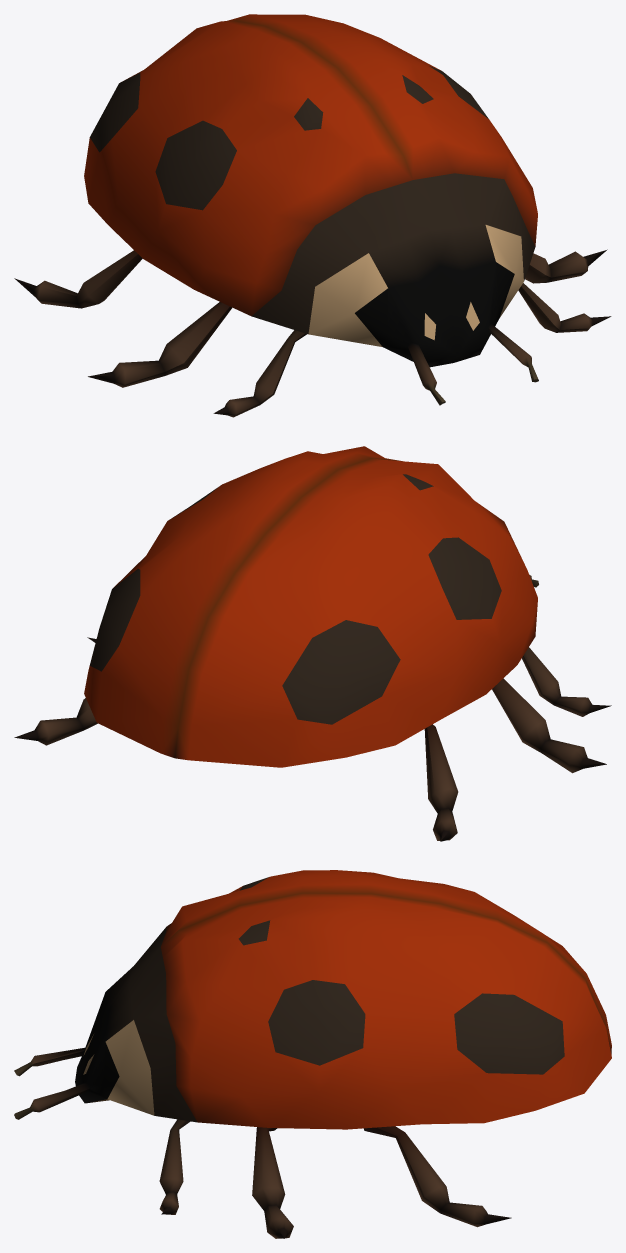
The model's file is animals-insects-ladybug_v2.glb.
3 renders of one model, top to bottom at view 1: azimuth 30°, elevation 25°; view 2: azimuth 150°, elevation 25°; view 3: azimuth 270°, elevation 25°, orthographic. The views are drawn at different scales.
Visible parts, largest first — view 1: Ladybug_v2; view 2: Ladybug_v2; view 3: Ladybug_v2.
Part boxes in pixels (bbox=[...]): Ladybug_v2: bbox=[14, 14, 611, 417]; Ladybug_v2: bbox=[14, 446, 611, 841]; Ladybug_v2: bbox=[14, 870, 611, 1238].
Size of the model in its own units: 0.8329 by 0.3907 by 0.8749.
